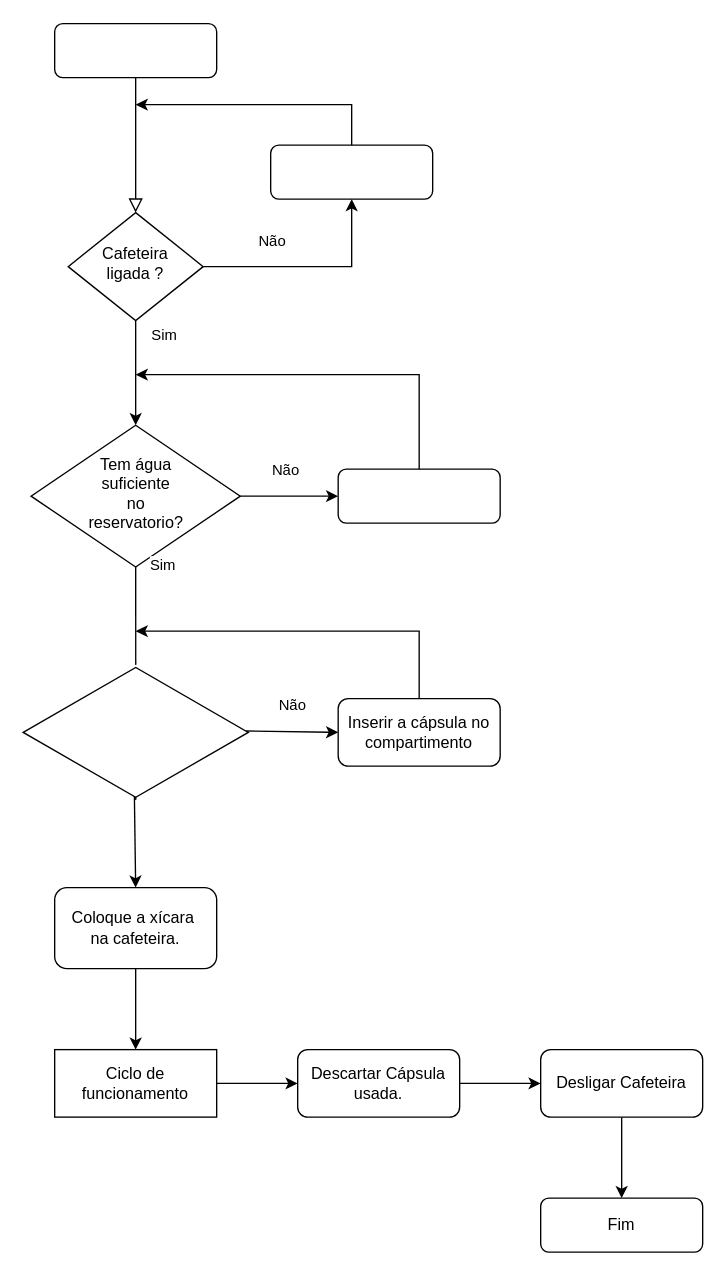
Image size: 728x1276. Some labels were removed from this diagram. The box of each missing label's shape, as (x1, y1, x2, y2) in pixels:
A Capsula foi inserida no compartimento?: (22, 664, 248, 800)
Encher o reservatório.: (337, 468, 500, 523)
Início: (53, 22, 217, 78)
Ligar Cafeteira: (269, 144, 433, 199)
